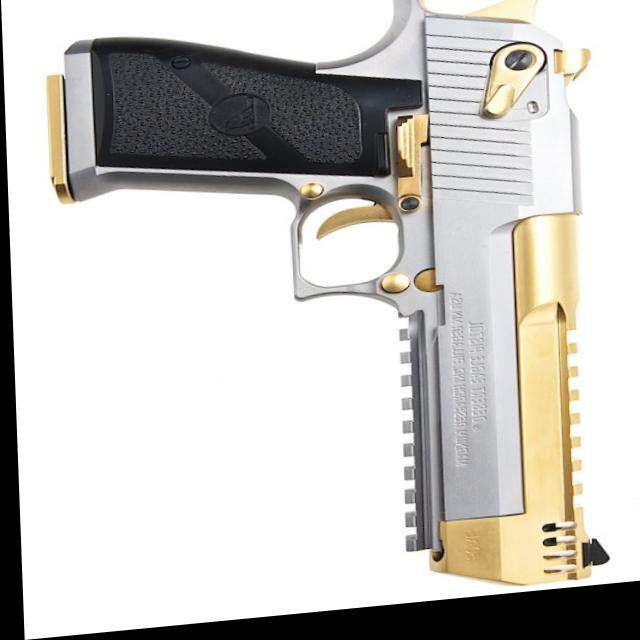handgun: (30, 0, 615, 633)
